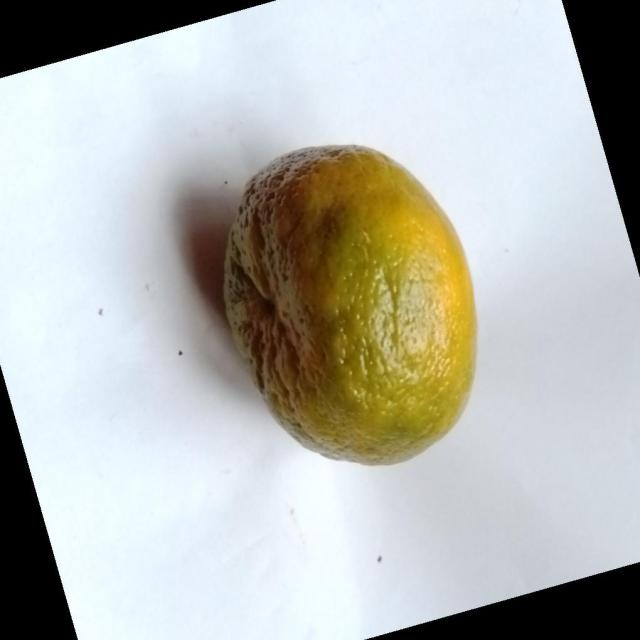agrume: (221, 142, 478, 466)
